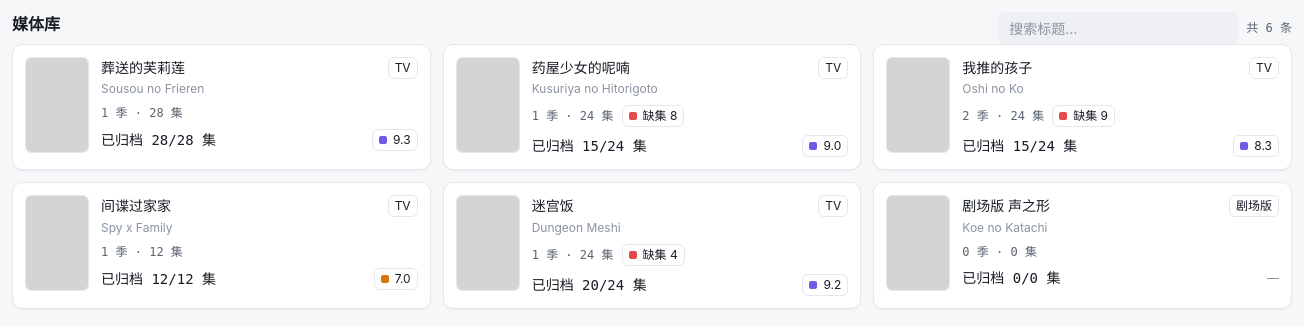
Test: LibraryPage › 搜索过滤标题
The image size is (1304, 326).
Expected: the text "葬送的芙莉莲" is shown, x1=101 y1=57 x2=185 y2=79
Type "药屋" into the search field with placeholder "搜索标题…". click: [1118, 28]
box: x1=998 y1=12 x2=1238 y2=44
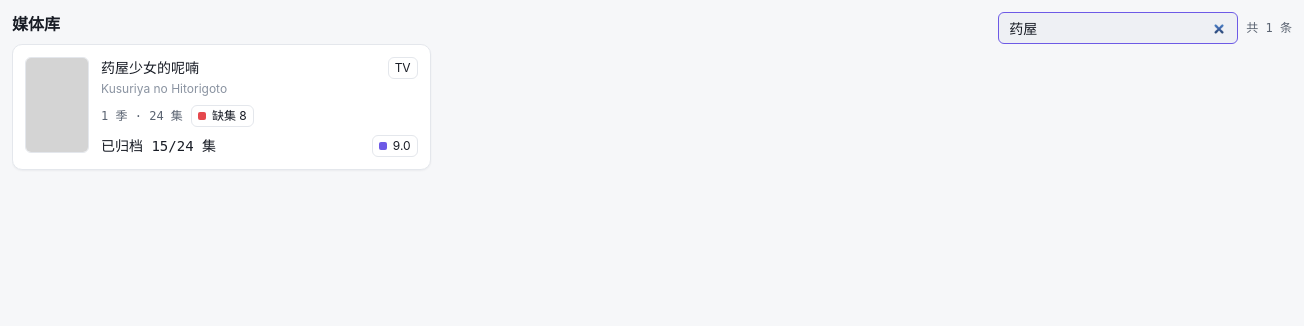
Expected: the text "药屋少女的呢喃" is shown, x1=101 y1=57 x2=199 y2=79
Result: the button "葬送的芙莉莲" is gone
